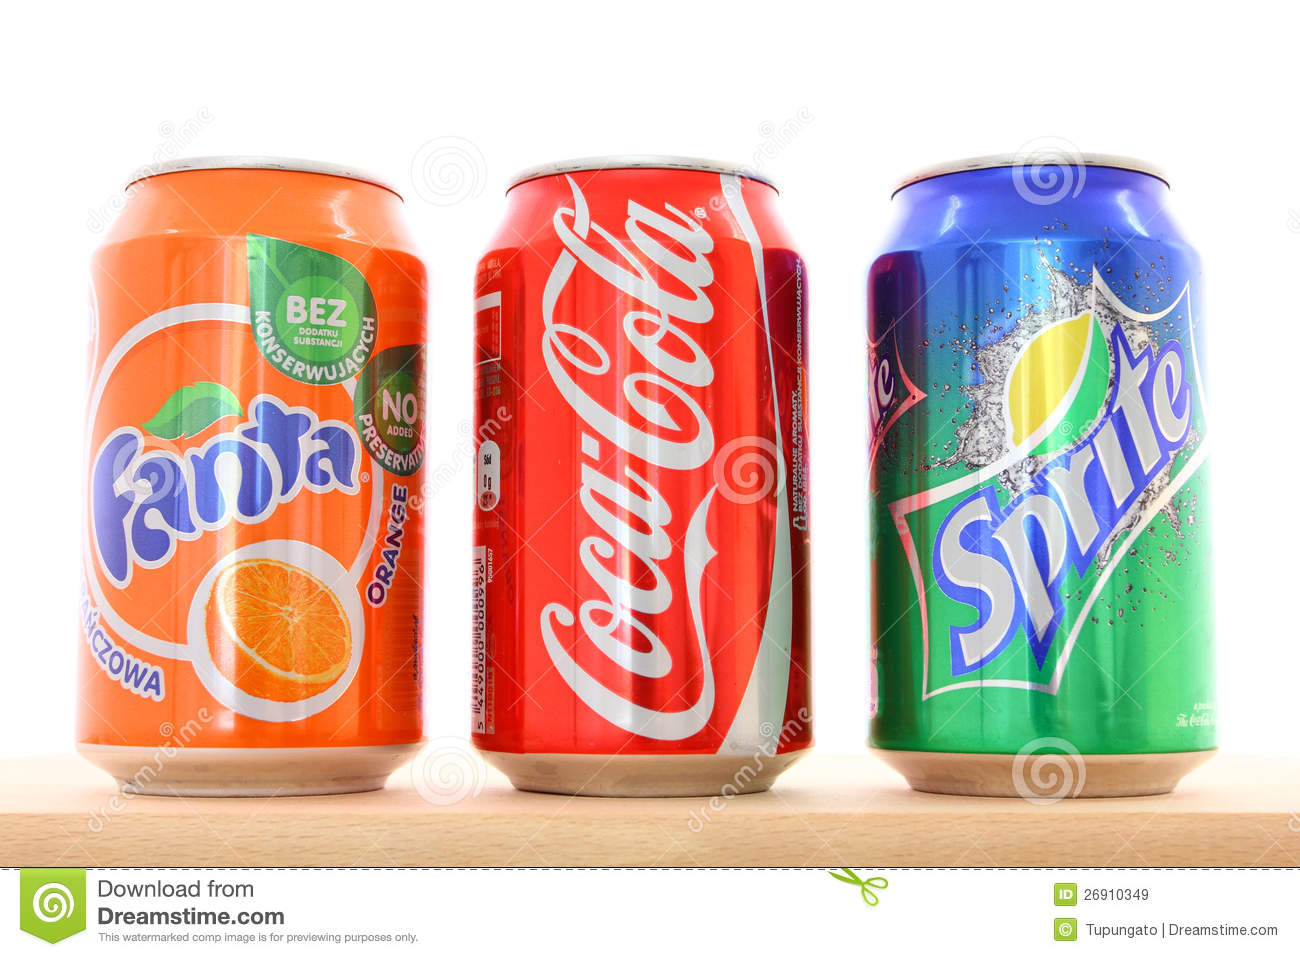sprite: (938, 333, 1187, 684), (938, 333, 1187, 668)
